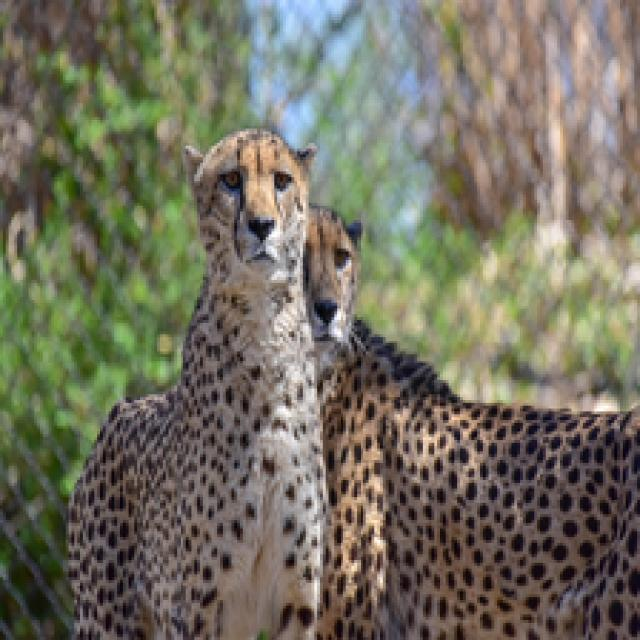cheetah: (285, 205, 640, 640), (95, 107, 303, 640)
